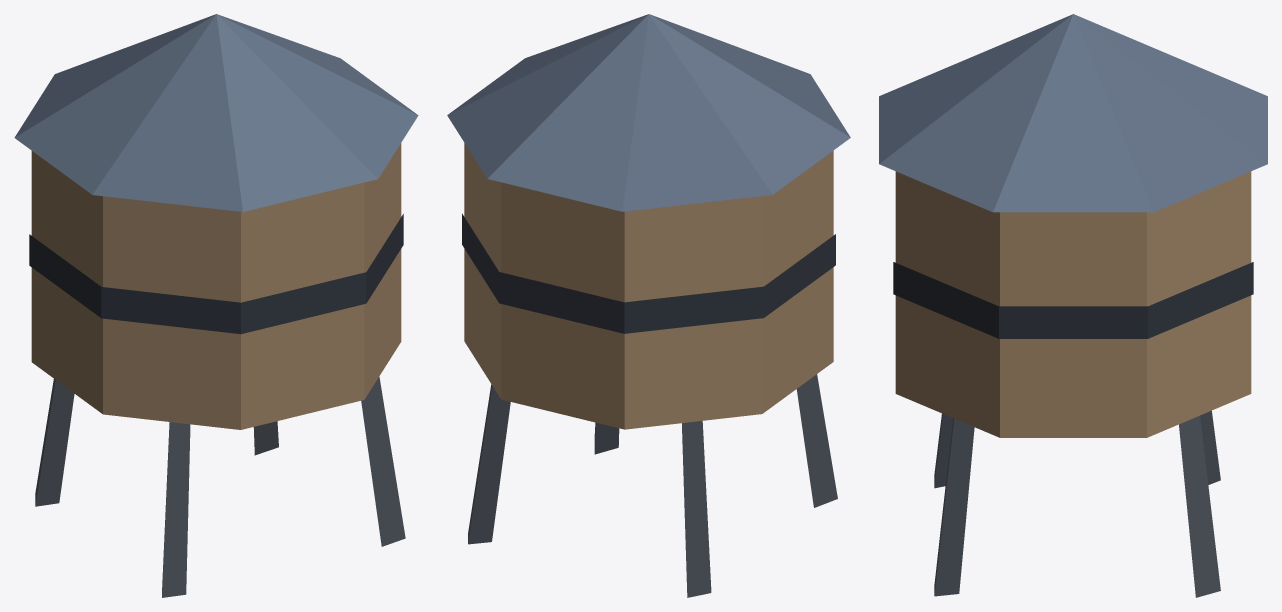
Rendered from prop_watertank.glb.
The picture shows the model from 3 angles, left to right: view 1: azimuth 30°, elevation 25°; view 2: azimuth 150°, elevation 25°; view 3: azimuth 270°, elevation 25°; orthographic projection. The views are drawn at different scales.
Parts seen in each view (by area): view 1: prop_watertank; view 2: prop_watertank; view 3: prop_watertank.
Boxes of the visible parts, x1,y1,x2,y2 form: prop_watertank: (14,14,418,597); prop_watertank: (447,14,850,597); prop_watertank: (879,14,1267,597).
Bounding box in the file's own units: 3.03 × 4.52 × 3.03.
